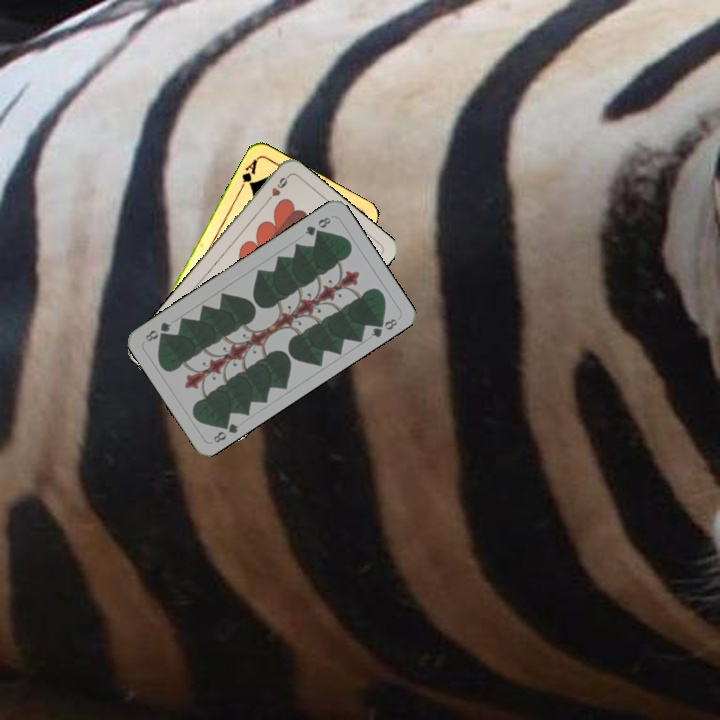G8: (209, 416, 242, 446), (300, 212, 334, 239)
GA: (236, 155, 260, 193)
H9: (262, 172, 292, 206)
